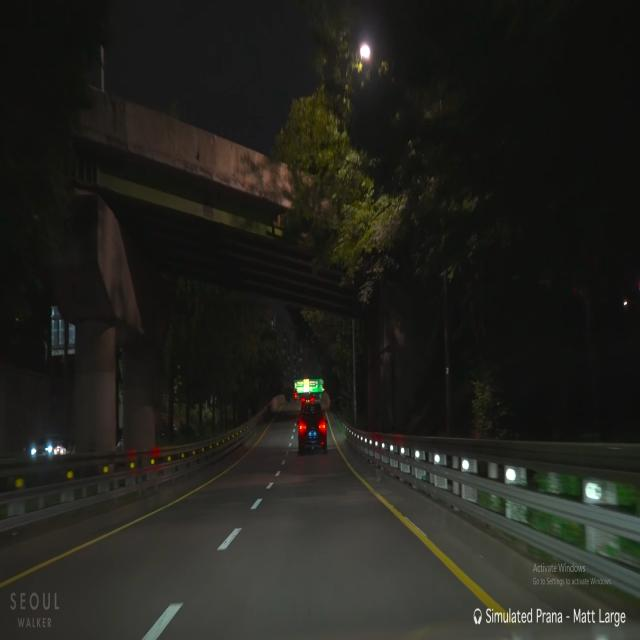headlights: (29, 442, 58, 459)
